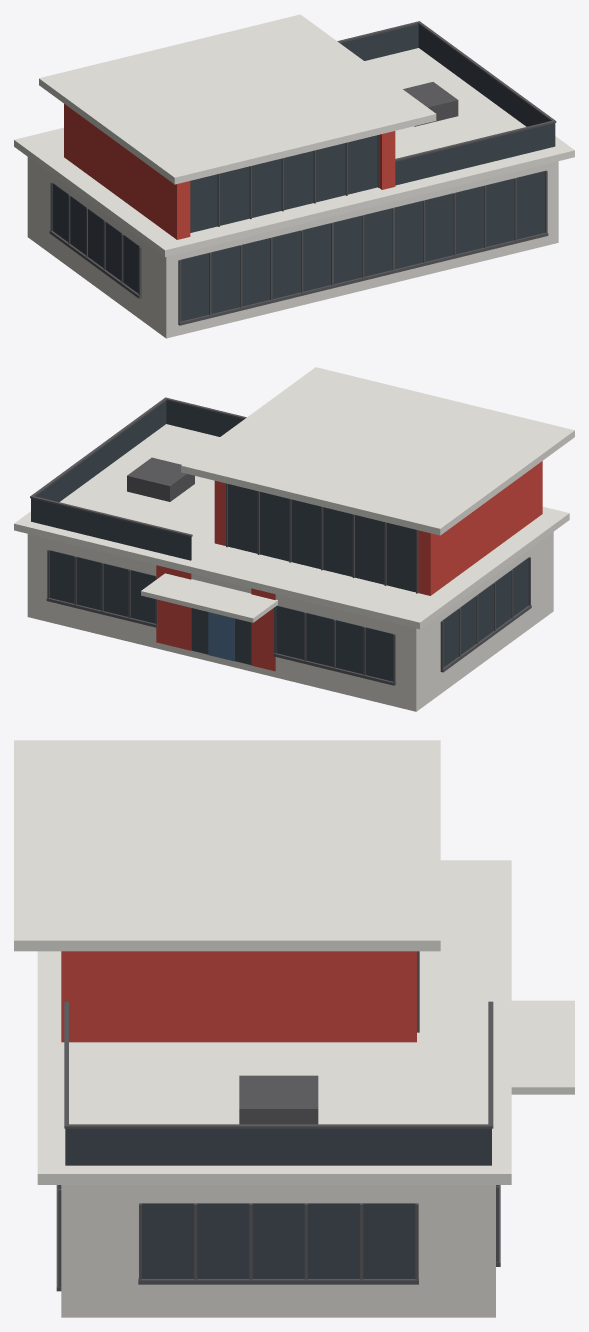
File: clubhouse.glb
3 views of the same model, one above another, from view 1: azimuth 30°, elevation 25°; view 2: azimuth 150°, elevation 25°; view 3: azimuth 270°, elevation 25° (orthographic). The views are drawn at different scales.
Visible parts, largest first — view 1: clubhouse; view 2: clubhouse; view 3: clubhouse.
Part boxes in pixels (left/top/right/bottom): clubhouse: left=14, top=14, right=574, bottom=338; clubhouse: left=14, top=367, right=574, bottom=711; clubhouse: left=14, top=740, right=574, bottom=1317.
Bounding box in the file's own units: 18.8 × 7.6 × 14.2.
